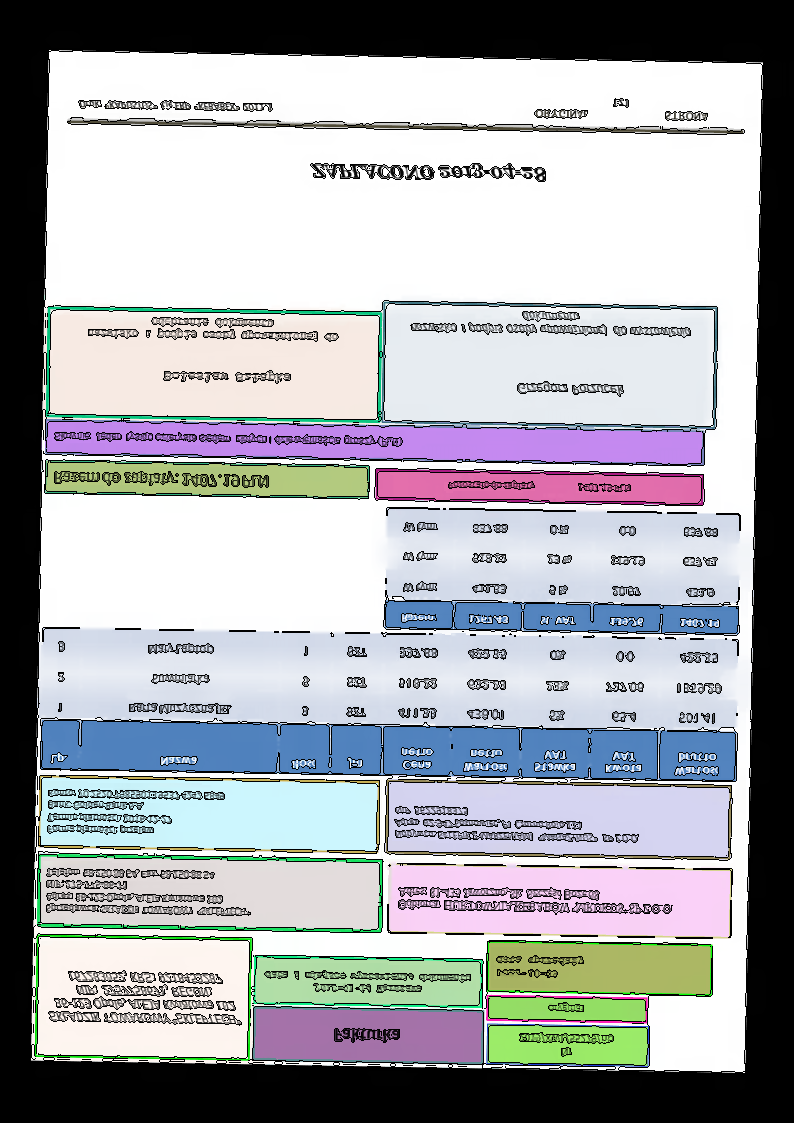Table: (39, 625, 739, 784), (383, 506, 743, 638)
TextBox: (46, 969, 245, 1028), (43, 865, 253, 920), (392, 802, 642, 846), (394, 884, 676, 920), (44, 786, 226, 841), (408, 306, 693, 340), (84, 315, 341, 345), (307, 156, 549, 187), (52, 429, 404, 450), (263, 967, 474, 997), (532, 94, 712, 125), (50, 468, 270, 492), (76, 96, 275, 116), (444, 477, 633, 497), (516, 1029, 614, 1062), (160, 366, 291, 388), (492, 952, 586, 981), (514, 380, 626, 399), (330, 1025, 402, 1046), (546, 1001, 586, 1015)
